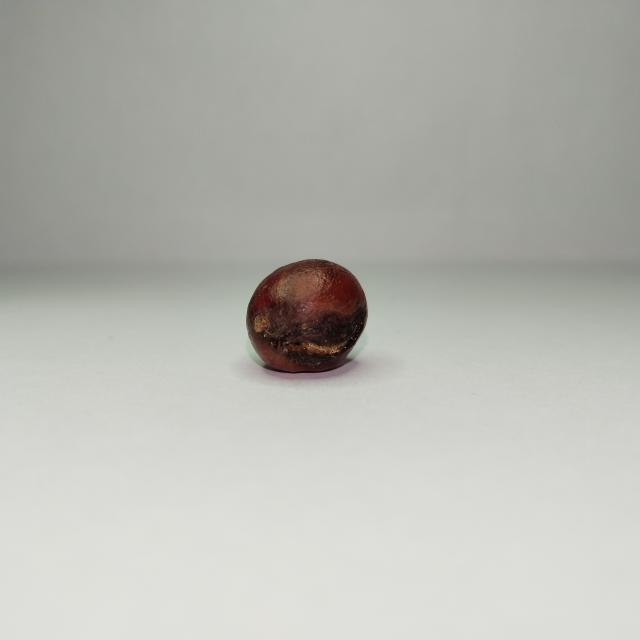Infectado: (247, 259, 367, 373)
